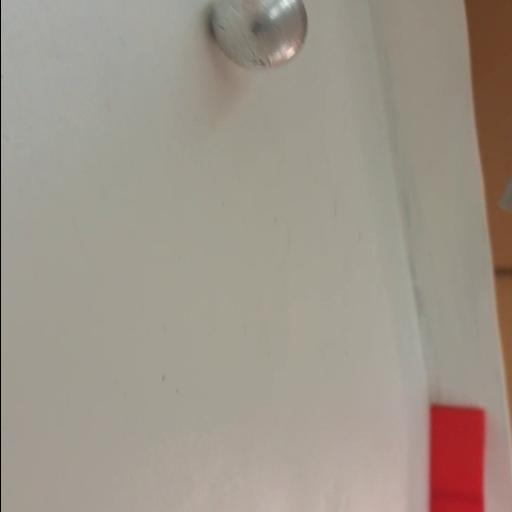alive: (208, 1, 306, 71)
